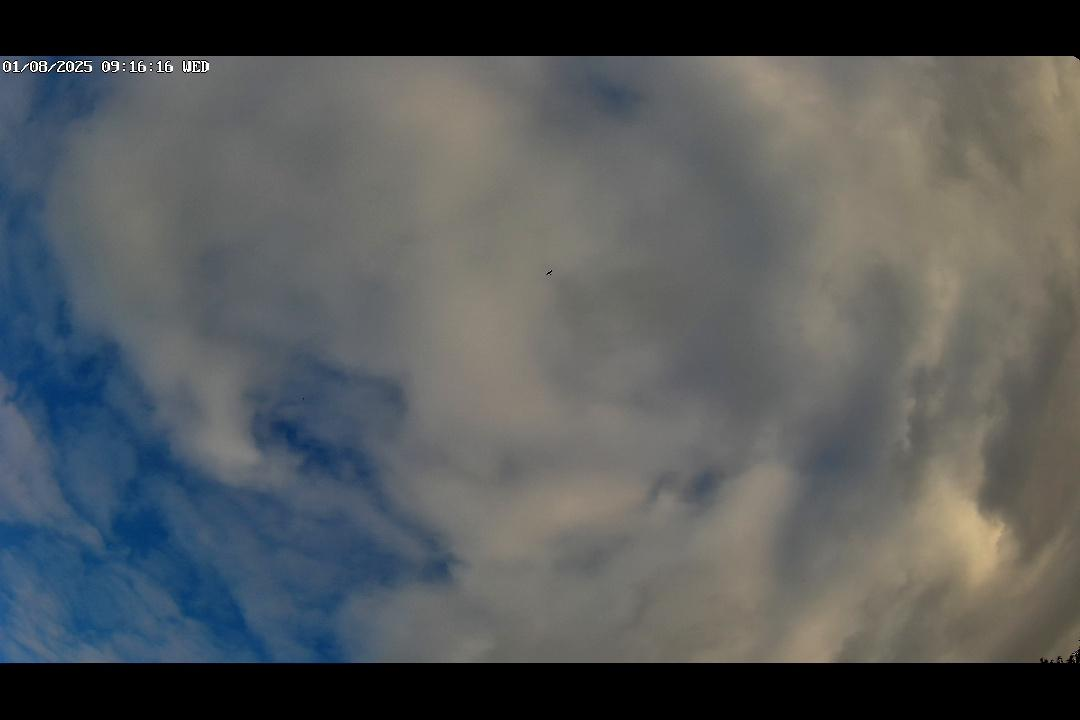WildLife: (535, 264, 561, 282), (299, 396, 307, 403)
